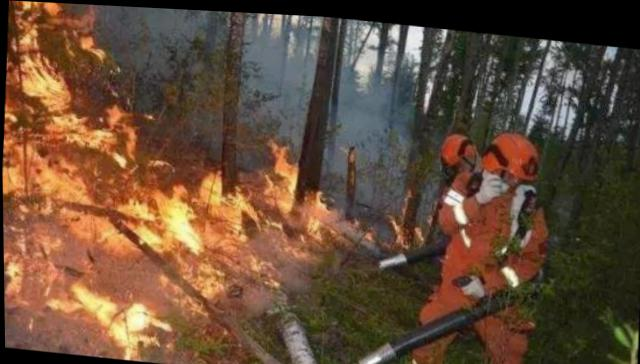fire: (0, 0, 328, 363)
